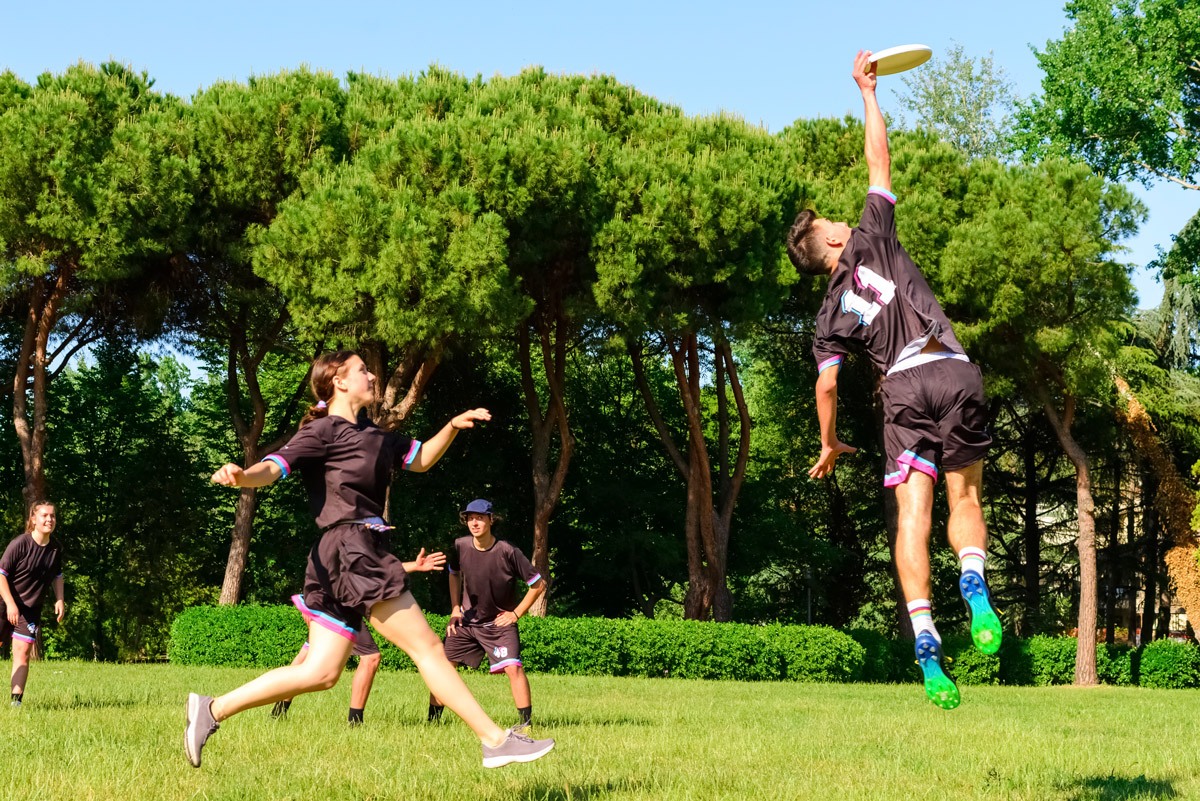disc: (853, 46, 938, 71)
